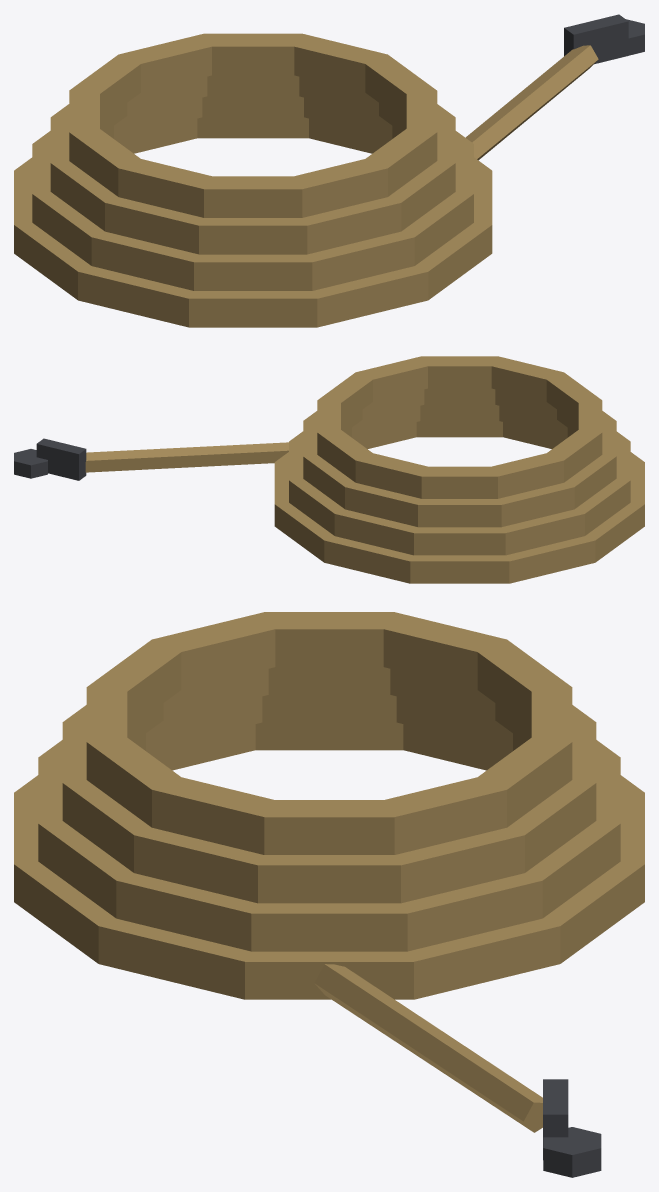
File: mine_rope_coil.glb
3 views of the same model, one above another, from view 1: azimuth 30°, elevation 25°; view 2: azimuth 150°, elevation 25°; view 3: azimuth 270°, elevation 25° (orthographic). The views are drawn at different scales.
Visible parts, largest first — view 1: mine_rope_coil; view 2: mine_rope_coil; view 3: mine_rope_coil.
Boxes of the visible parts, x1,y1,x2,y2 form: mine_rope_coil: (14,14,644,327); mine_rope_coil: (14,356,644,583); mine_rope_coil: (14,612,644,1177).
Size of what is drawn, in the model's own units: 1.26 by 0.2 by 0.7534.
